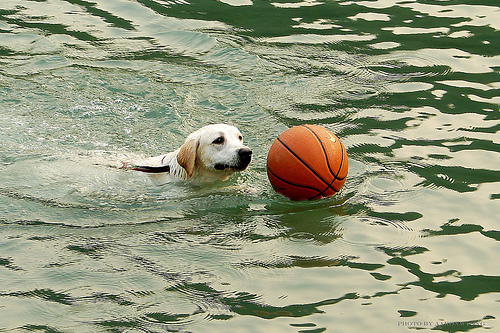basketball: (264, 122, 346, 201)
